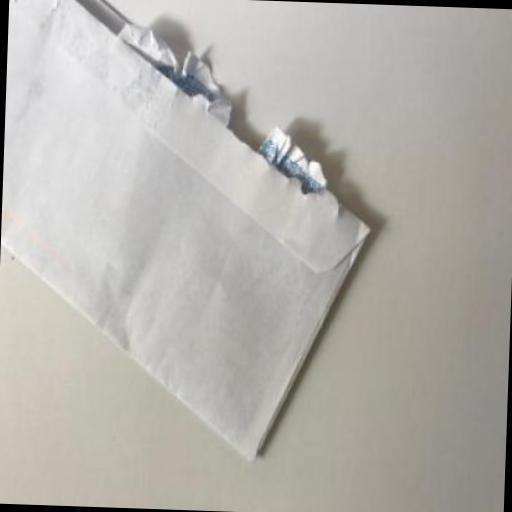paper: (0, 0, 377, 463)
